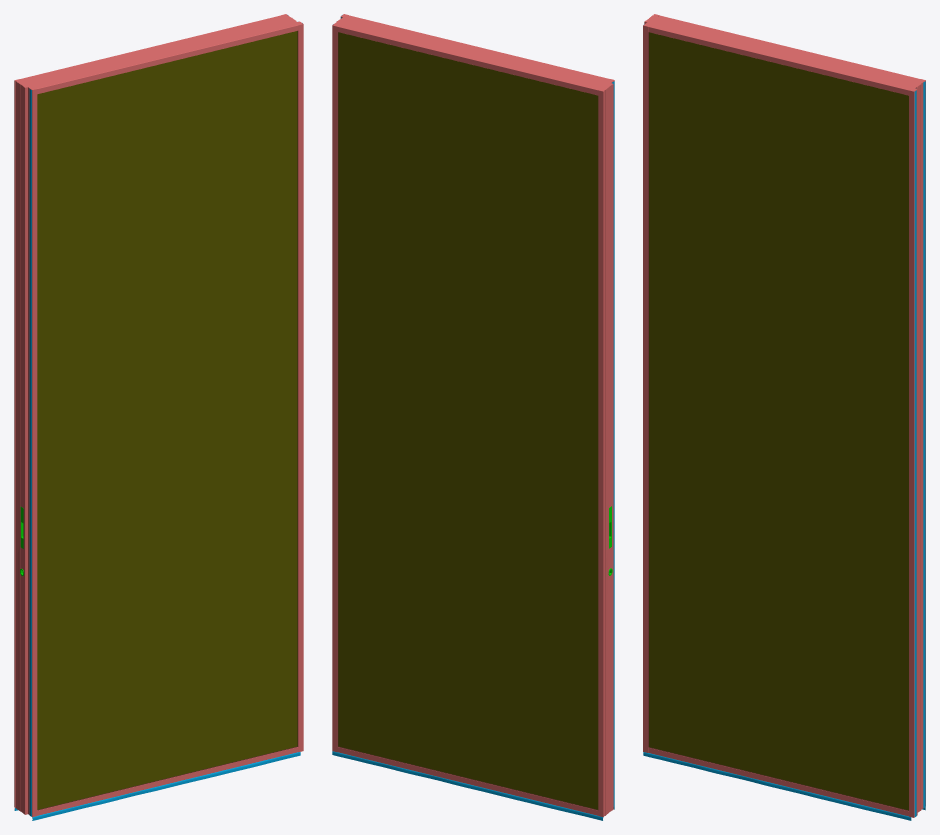
Rendered from Door_01B.fbx.
3 views of the same model, side by side, from view 1: azimuth 30°, elevation 25°; view 2: azimuth 150°, elevation 25°; view 3: azimuth 330°, elevation 25° (orthographic).
Visible parts, largest first — view 1: Door_01B; view 2: Door_01B; view 3: Door_01B.
Boxes of the visible parts, <box> form: Door_01B: <box>14,14,303,820</box>; Door_01B: <box>332,14,614,820</box>; Door_01B: <box>643,14,925,820</box>.
Size of the model in its own units: 106 by 269 by 10.01.
